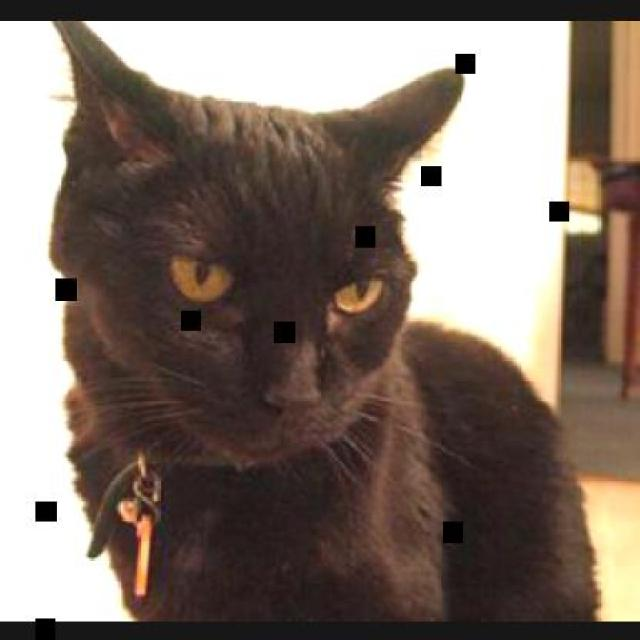unauthorized: (48, 19, 602, 623)
